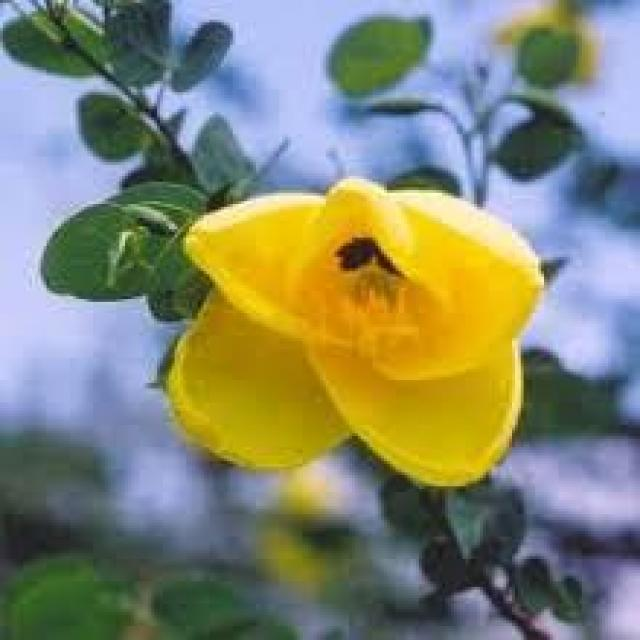organic waste: (180, 187, 553, 483)
